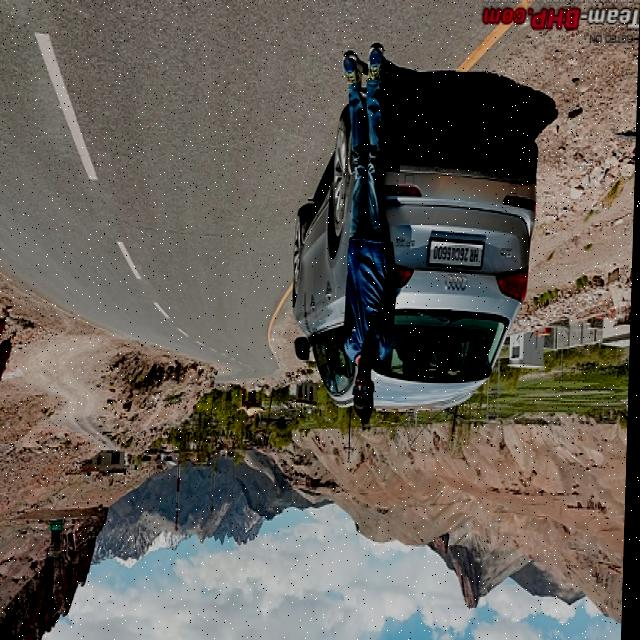plate: (427, 239, 487, 269)
